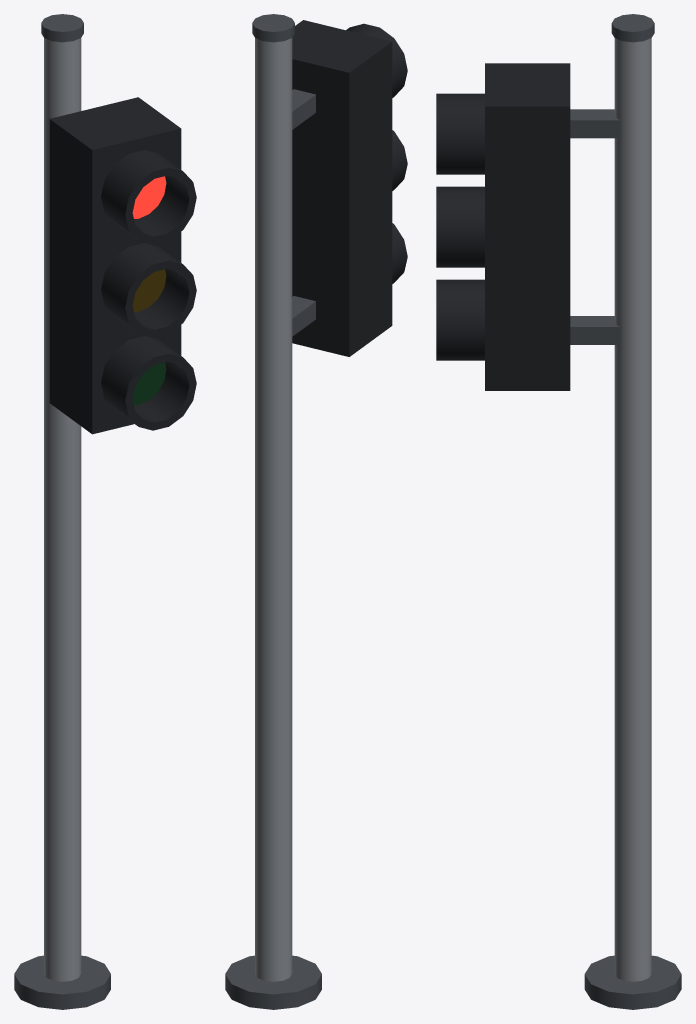
File: semaforo-vermelho.glb
The picture shows the model from 3 angles, left to right: view 1: azimuth 30°, elevation 25°; view 2: azimuth 150°, elevation 25°; view 3: azimuth 270°, elevation 25°; orthographic projection.
Visible parts, largest first — view 1: Poste, Caixa, Viseiras, Luz_Verde, Luz_Vermelho, Luz_Amarelo; view 2: Poste, Caixa, Viseiras, Suportes; view 3: Poste, Caixa, Viseiras, Suportes.
Part boxes in pixels (bbox=[...]): Poste: bbox=[14, 14, 110, 1009]; Caixa: bbox=[49, 97, 181, 434]; Viseiras: bbox=[101, 150, 196, 430]; Luz_Verde: bbox=[132, 362, 166, 404]; Luz_Vermelho: bbox=[132, 176, 166, 218]; Luz_Amarelo: bbox=[132, 269, 166, 311]; Poste: bbox=[225, 14, 321, 1009]; Caixa: bbox=[292, 20, 392, 356]; Viseiras: bbox=[346, 23, 407, 283]; Suportes: bbox=[292, 89, 315, 336]; Poste: bbox=[584, 14, 681, 1009]; Caixa: bbox=[485, 63, 570, 390]; Viseiras: bbox=[436, 93, 484, 360]; Suportes: bbox=[570, 109, 620, 344].
Bounding box in the file's own units: 0.36 × 3.74 × 0.86.
